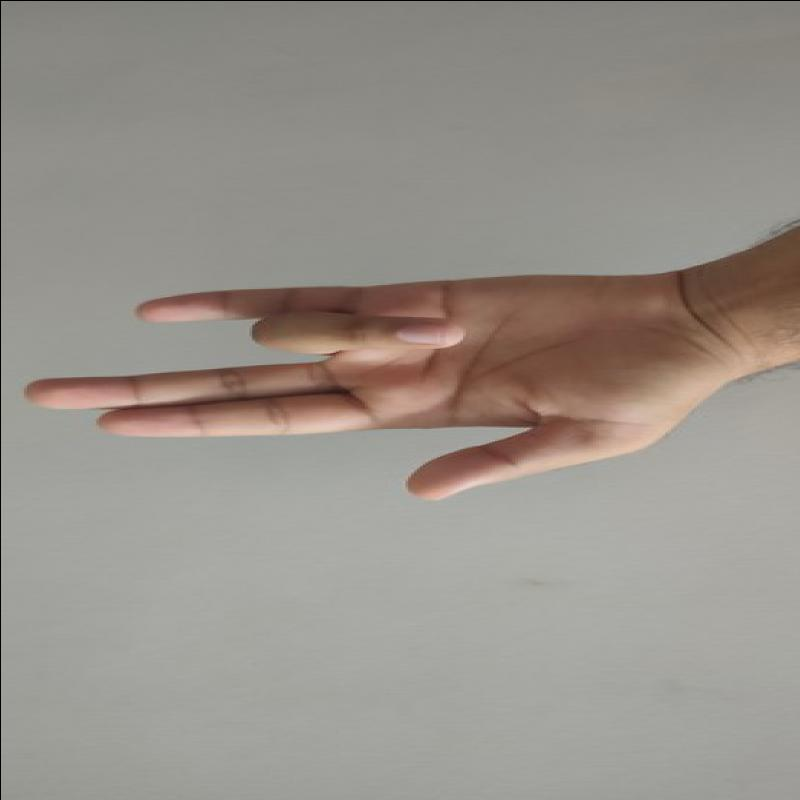Pathaaka: (12, 251, 704, 514)
